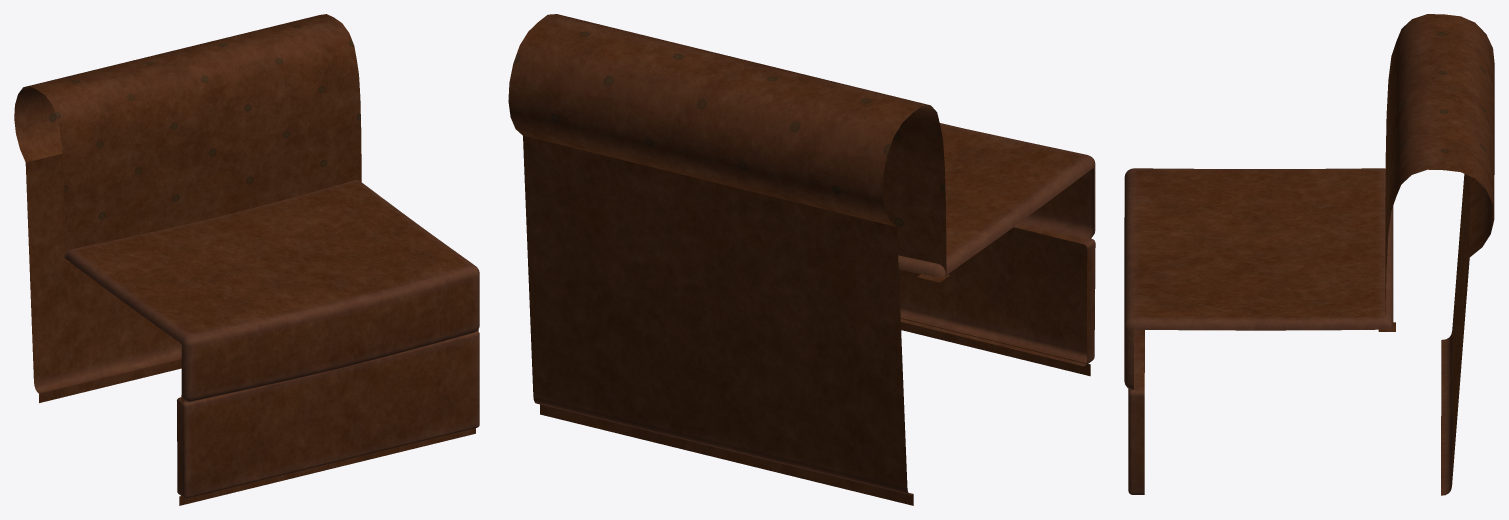
Rendered from SofaRetro01_7.FBX.
3 views of the same model, side by side, from view 1: azimuth 30°, elevation 25°; view 2: azimuth 150°, elevation 25°; view 3: azimuth 270°, elevation 25° (orthographic). The views are drawn at different scales.
Parts seen in each view (by area): view 1: SofaRetro01_7; view 2: SofaRetro01_7; view 3: SofaRetro01_7.
Part boxes in pixels (x1=…): SofaRetro01_7: x1=14, y1=14, x2=479, y2=505; SofaRetro01_7: x1=508, y1=14, x2=1095, y2=505; SofaRetro01_7: x1=1124, y1=14, x2=1494, y2=495.
Bounding box in the file's own units: 1002 × 1007 × 1005.
